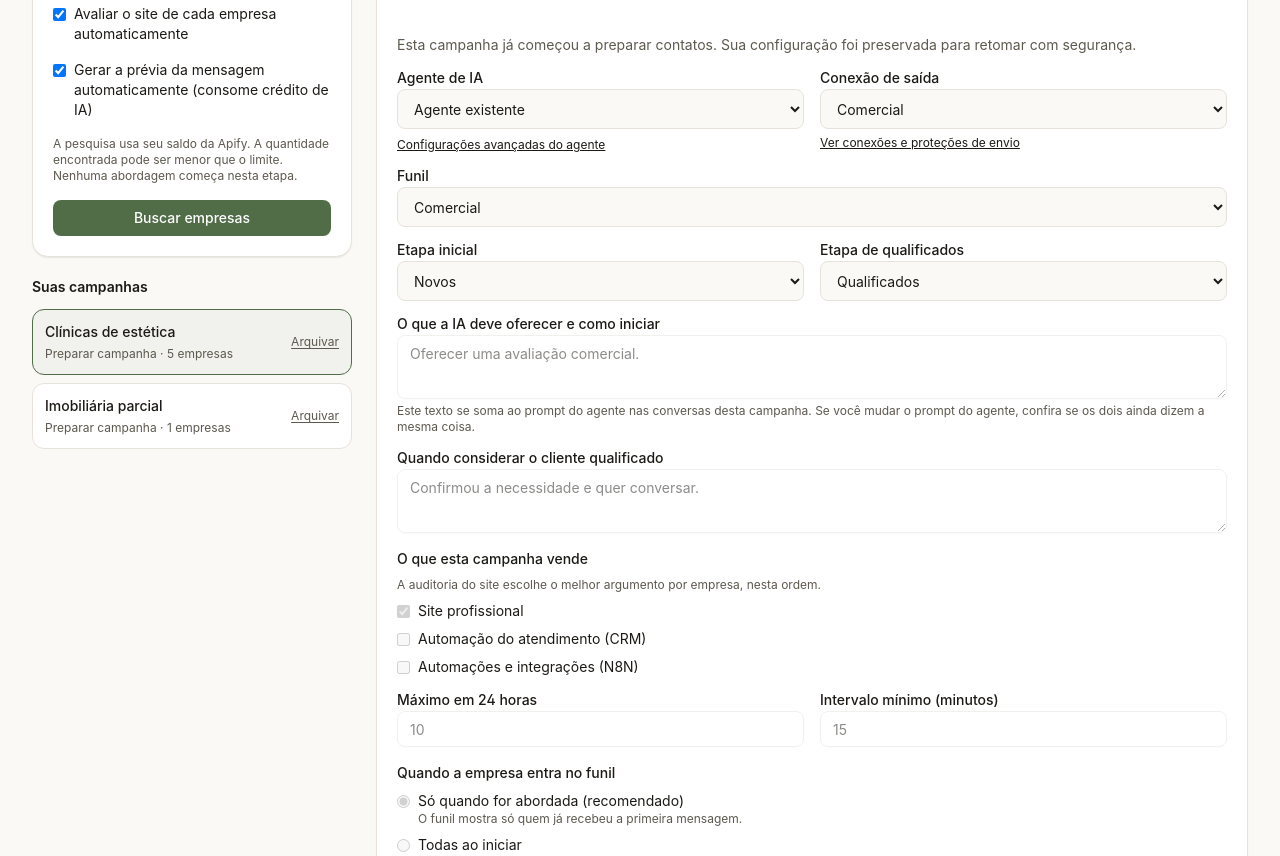
Test: H: o preparo automático na lista › campanha sem agente: 'Prévia: escolha o agente na etapa 2' e nunca 'Gerando prévia…'
(page scrolled)
Click the button "Imobiliária parcial Preparar campanha · 1 empresas" at (152, 416), box left=33, top=384, right=271, bottom=448
(page scrolled)
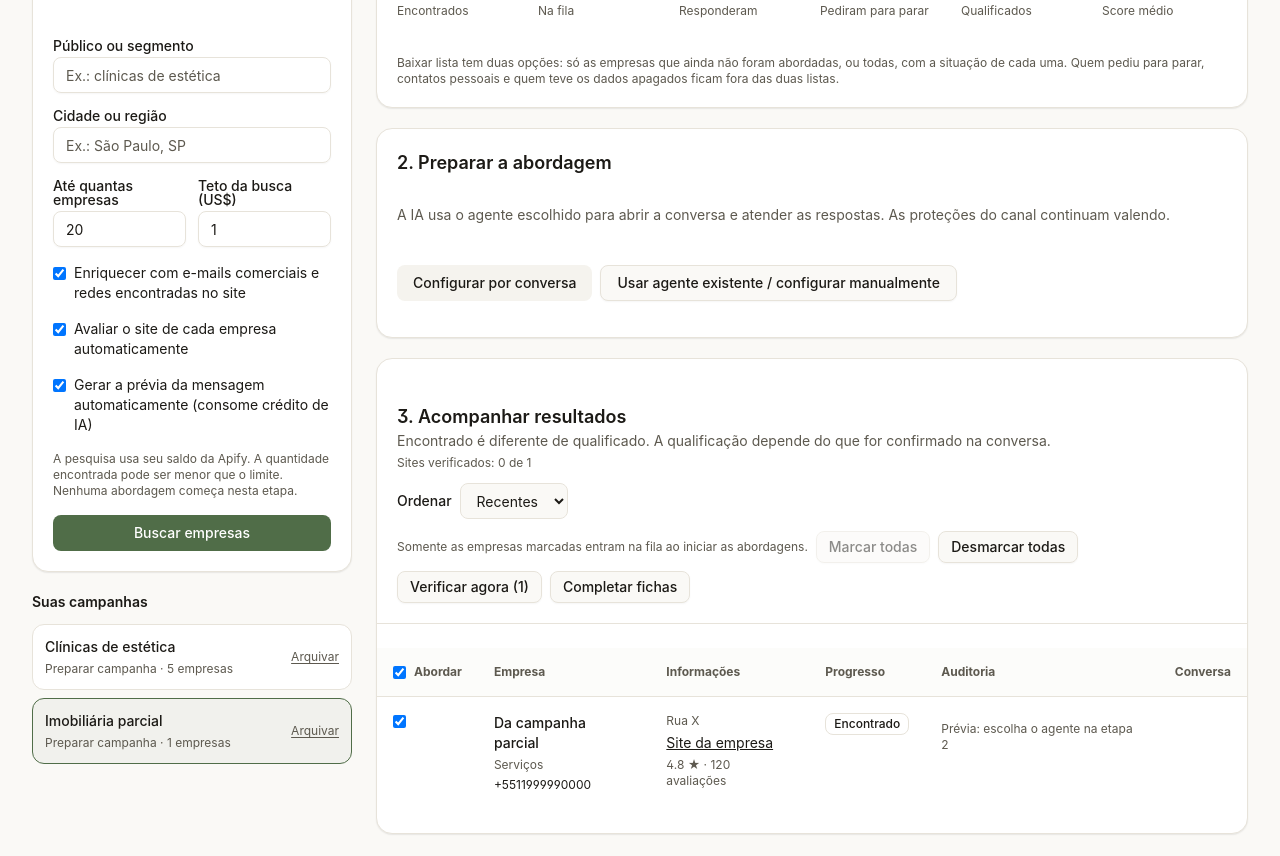
Check: the text "Prévia: escolha o agente na etapa 2" is shown, box left=941, top=721, right=1143, bottom=753
